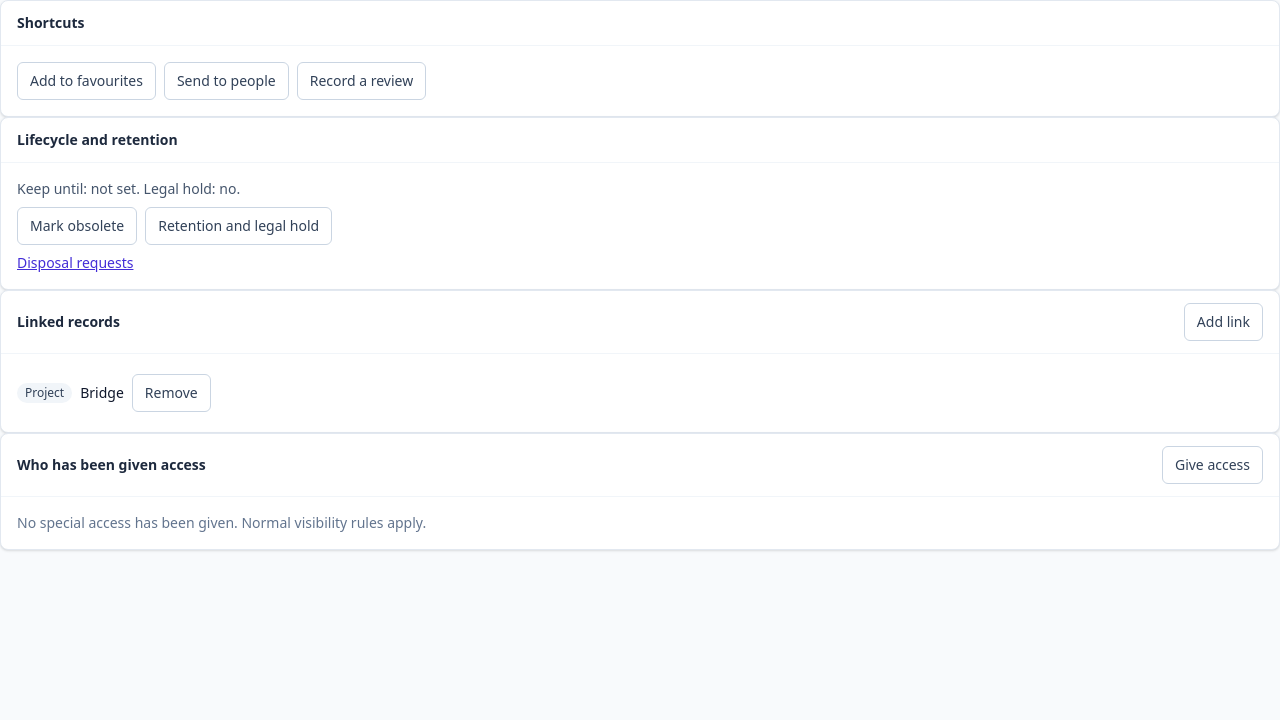
Scenario: DocumentTools: links, review, sharing, access, shortcuts › adds and removes a link
Later steps or results of the test are not shown.
Expected: the text "Bridge" is shown, [80,383,124,403]
Click the button with aria-label "Remove link Bridge": (171, 393) [132,374,211,412]
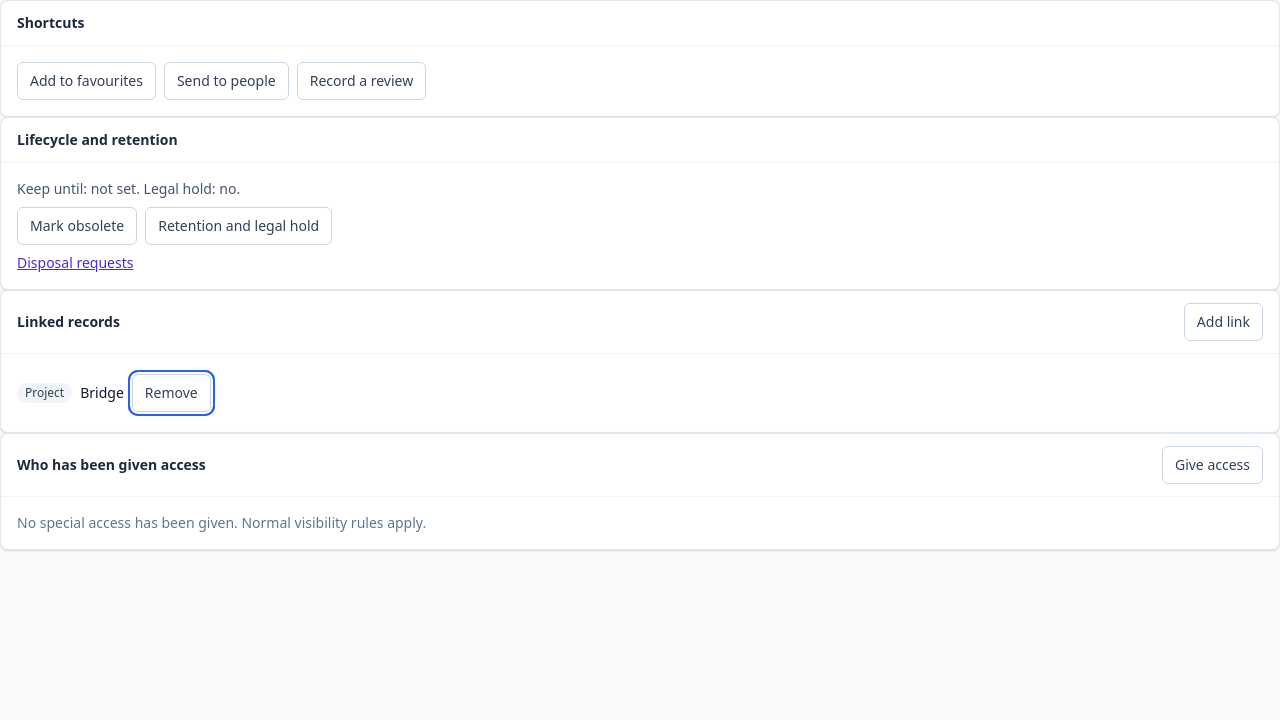
Click the button "Add link": (1223, 322) [1184,303,1263,341]
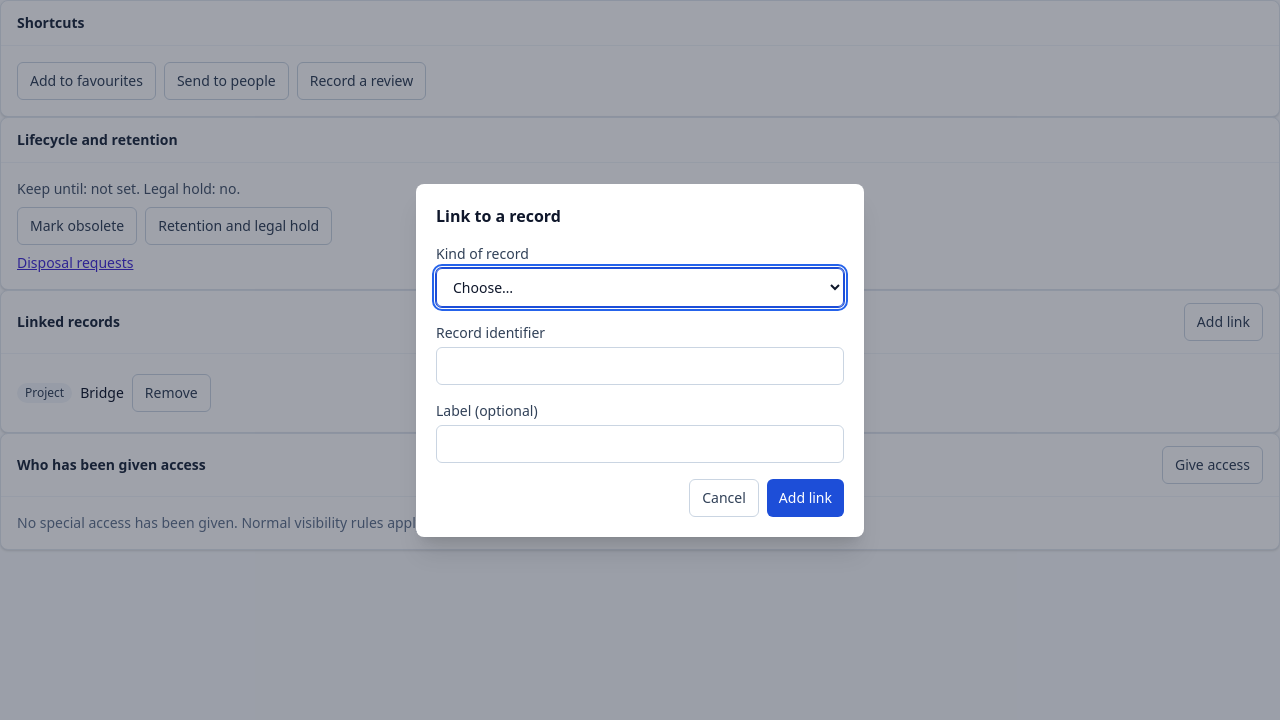
Click the button "Add link": (805, 498) [767,478,844,516]
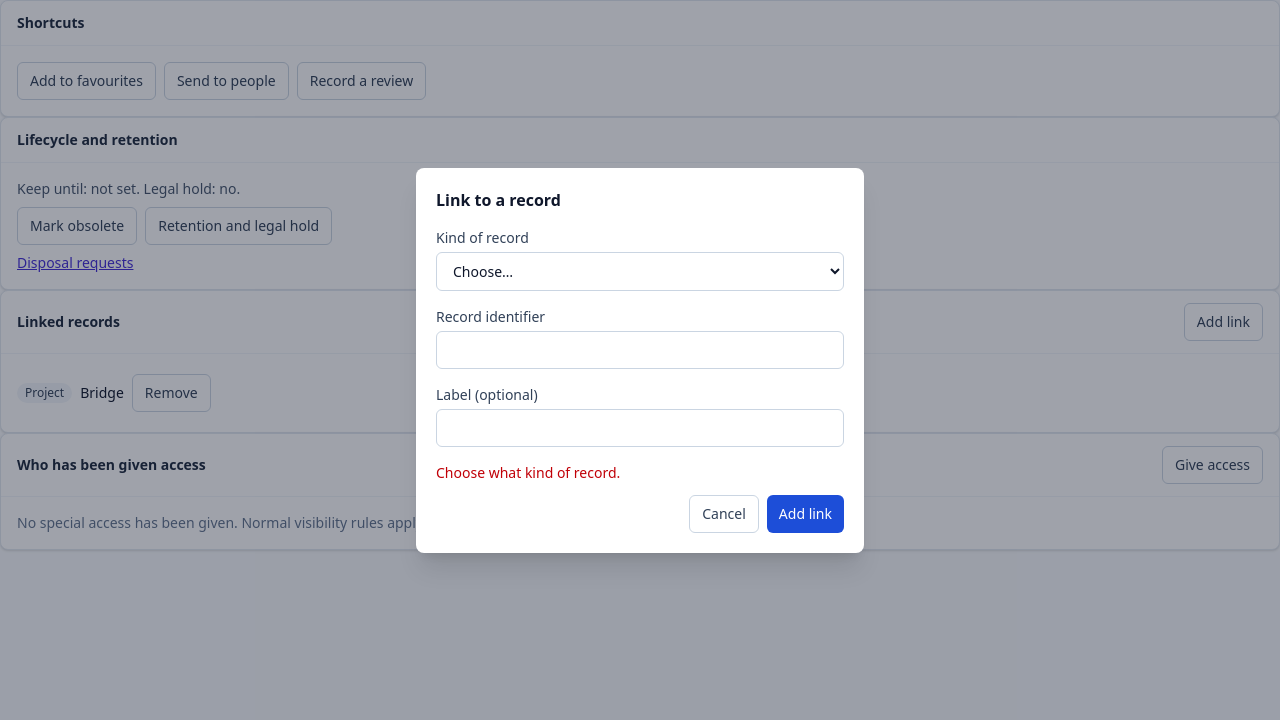
Expected: the text "Choose what kind of record." is shown, [436,462,620,482]
